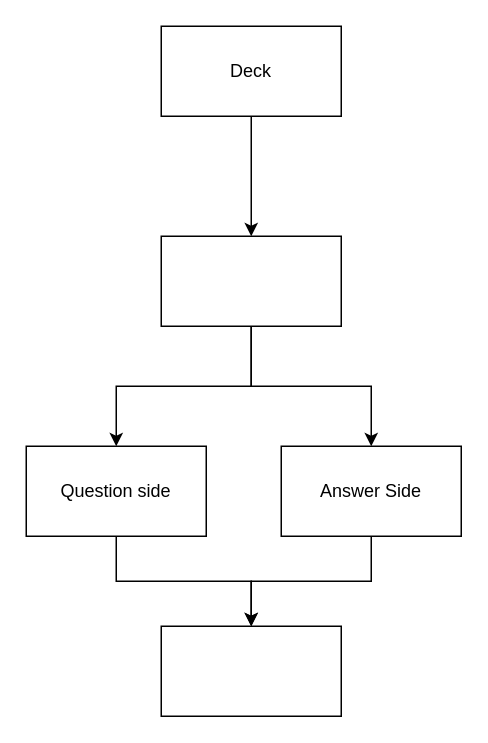
Image size: 488x743. Some labels were removed from this diagram. Each missing label, with the box of its shape:
flash cards: (160, 235, 341, 326)
Images and / or text: (160, 625, 341, 716)
